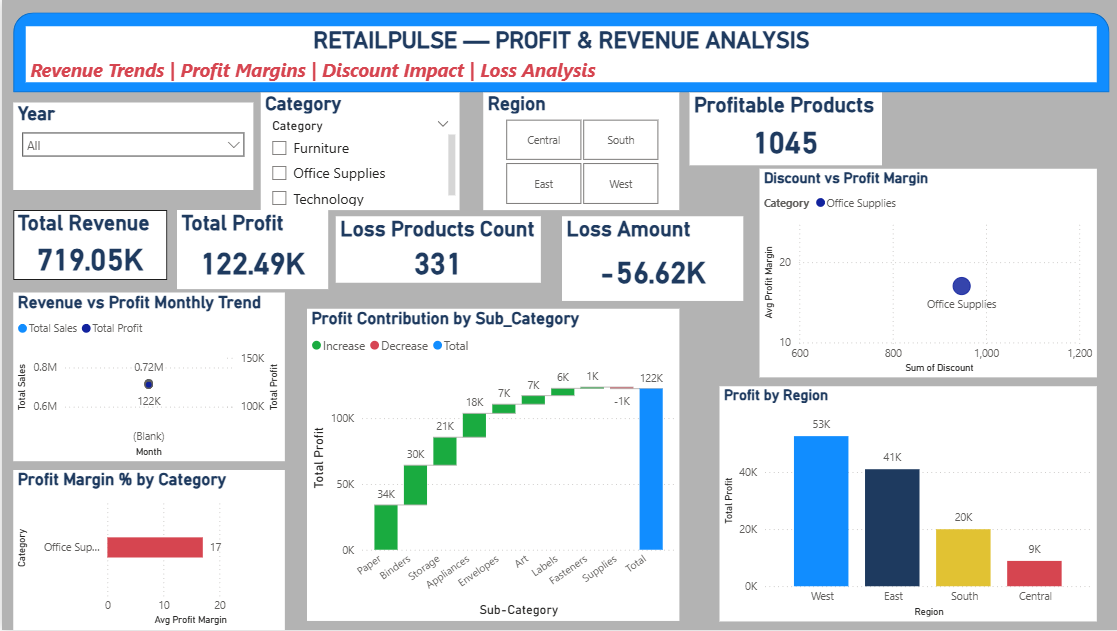

What the dashboard file says about the page in this screenshot:
{"tool":"powerbi","page":{"name":"Profit & Revenue Dashboard","canvas":[1280,720],"ordinal":7},"visuals":[{"type":"shape","box":[12.9,14.3,1252.9,91.4],"z":0},{"type":"textbox","title":" RETAILPULSE — PROFIT & REVENUE ANALYSIS","box":[27.1,30,1224.3,64.3],"z":1},{"type":"card","title":"Total Revenue","fields":{"Values":["Sales Measures.Total Sales"]},"box":[12.9,240,175.7,80],"z":2},{"type":"card","title":"Total Profit","fields":{"Values":["Sales Measures.Total Profit"]},"box":[200,240,172.9,90],"z":3},{"type":"card","title":"Avg Profit Margin","fields":{"Values":["Sales Measures.Avg Profit Margin"]},"box":[454.3,452.9,207.1,84.3],"z":4},{"type":"card","title":"Loss Amount","fields":{"Values":["Date Table.Loss Amount"]},"box":[640,247.1,207.1,97.1],"z":5},{"type":"card","title":"Profitable Products","fields":{"Values":["Date Table.Profitable Products"]},"box":[785.7,105.7,220,82.9],"z":6},{"type":"card","title":"Loss Products Count","fields":{"Values":["Date Table.Loss Products Count"]},"box":[381.4,247.1,234.3,75.7],"z":7},{"type":"lineChart","title":"Revenue vs Profit Monthly Trend ","fields":{"Category":["Date Table.Date.Variation.Date Hierarchy.Month"],"Y":["Sales Measures.Total Sales"],"Y2":["Sales Measures.Total Profit"]},"box":[12.9,334.3,310,192.9],"z":8},{"type":"clusteredBarChart","title":"Profit Margin % by Category","fields":{"Category":["Sales Measures.Category"],"Y":["Sales Measures.Avg Profit Margin"]},"box":[12.9,537.1,310,182.9],"z":9},{"type":"waterfallChart","title":"Profit Contribution by Sub_Category","fields":{"Category":["Sales Measures.Sub-Category"],"Y":["Sales Measures.Total Profit"]},"box":[348.6,352.9,425.7,357.1],"z":10},{"type":"scatterChart","title":"Discount vs Profit Margin","fields":{"X":["Sum(Sales Measures.Discount)"],"Y":["Sales Measures.Avg Profit Margin"],"Series":["Sales Measures.Category"],"Size":["CountNonNull(Sales Measures.Sub-Category)"]},"box":[865.7,192.9,385.7,238.6],"z":11},{"type":"clusteredColumnChart","title":"Profit by Region","fields":{"Category":["Sales Measures.Region"],"Y":["Sales Measures.Total Profit"]},"box":[820,441.4,431.4,268.6],"z":12},{"type":"slicer","title":"Year","fields":{"Values":["Date Table.Year"]},"box":[12.9,117.1,274.3,100],"z":13},{"type":"slicer","title":"Category","fields":{"Values":["Sales Measures.Category"]},"box":[295.7,105.7,227.1,134.3],"z":14},{"type":"slicer","title":"Region","fields":{"Values":["Sales Measures.Region"]},"box":[550,105.7,224.3,134.3],"z":15}]}

Visuals, with their boxes in screenshot pixels (x1, y1, x2, y2), scaled from the page's 1280x720 canvas onto the 1117x631 screenshot:
shape: x1=11, y1=13, x2=1105, y2=93
" RETAILPULSE — PROFIT & REVENUE ANALYSIS" textbox: x1=24, y1=26, x2=1092, y2=83
"Total Revenue" card: x1=11, y1=210, x2=165, y2=280
"Total Profit" card: x1=175, y1=210, x2=325, y2=289
"Avg Profit Margin" card: x1=396, y1=397, x2=577, y2=471
"Loss Amount" card: x1=558, y1=217, x2=739, y2=302
"Profitable Products" card: x1=686, y1=93, x2=878, y2=165
"Loss Products Count" card: x1=333, y1=217, x2=537, y2=283
"Revenue vs Profit Monthly Trend " lineChart: x1=11, y1=293, x2=282, y2=462
"Profit Margin % by Category" clusteredBarChart: x1=11, y1=471, x2=282, y2=630
"Profit Contribution by Sub_Category" waterfallChart: x1=304, y1=309, x2=676, y2=622
"Discount vs Profit Margin" scatterChart: x1=755, y1=169, x2=1092, y2=378
"Profit by Region" clusteredColumnChart: x1=716, y1=387, x2=1092, y2=622
"Year" slicer: x1=11, y1=103, x2=251, y2=190
"Category" slicer: x1=258, y1=93, x2=456, y2=210
"Region" slicer: x1=480, y1=93, x2=676, y2=210
